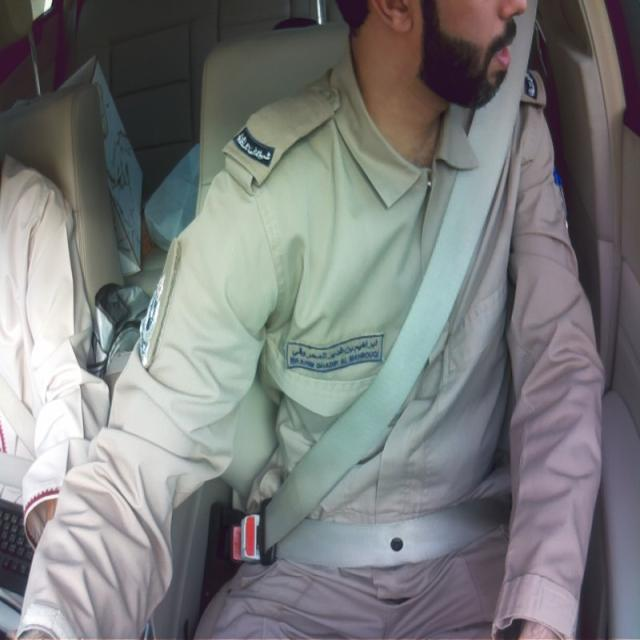seatbelt: (262, 3, 534, 568)
